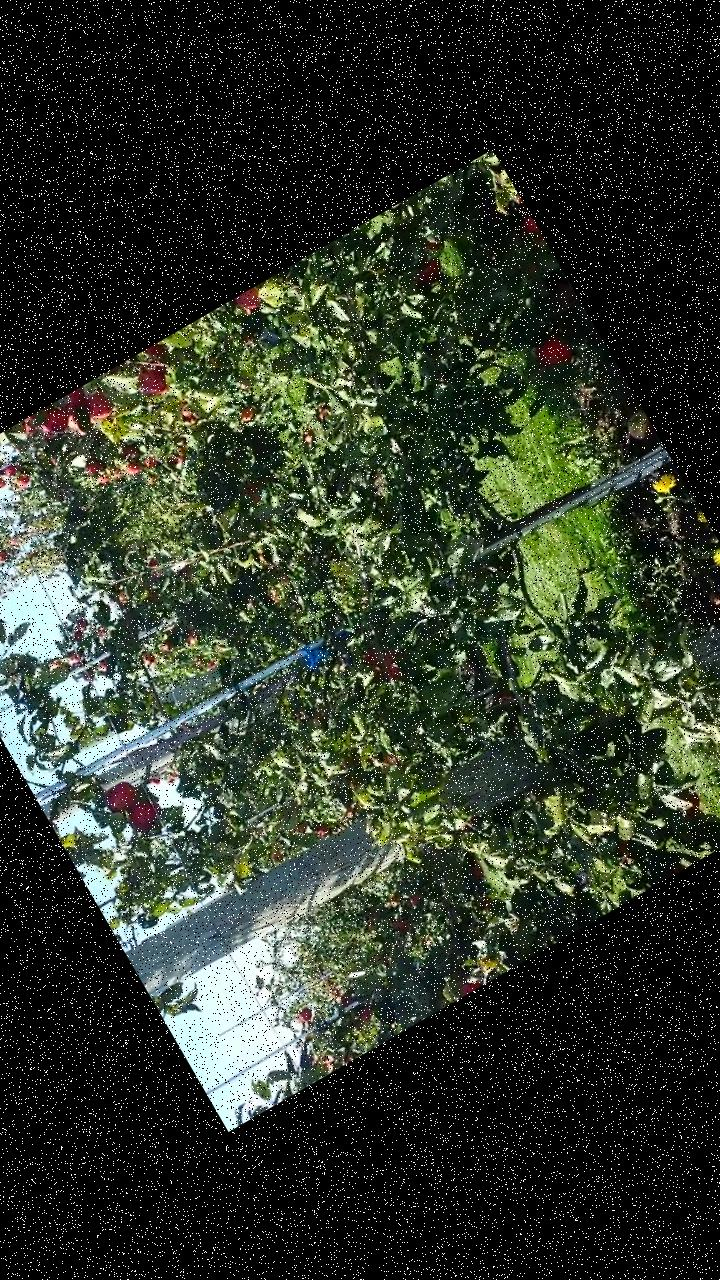Apple: (52, 388, 100, 439), (98, 777, 140, 817), (530, 332, 570, 372), (129, 359, 168, 399), (121, 796, 160, 834), (514, 214, 546, 251), (80, 388, 114, 422), (36, 407, 66, 438), (414, 256, 445, 284), (377, 650, 404, 680), (234, 286, 262, 314), (678, 789, 704, 817), (456, 976, 480, 996), (144, 342, 165, 361), (359, 649, 378, 670), (19, 414, 38, 432), (420, 235, 439, 252)
